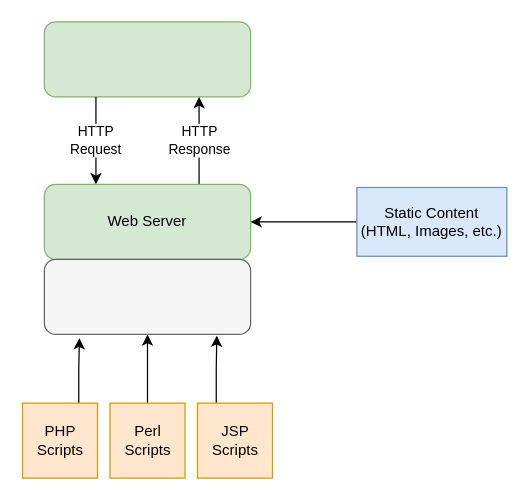
Some shapes in this 529 by 500 pixel diagram are drawn without their labels. Each missing label, with the centre of its shape:
"Runtime environments for server side scrips (PHP, Perl, JSP, etc.)" goes at point (147, 296).
"Web Client" goes at point (147, 59).
